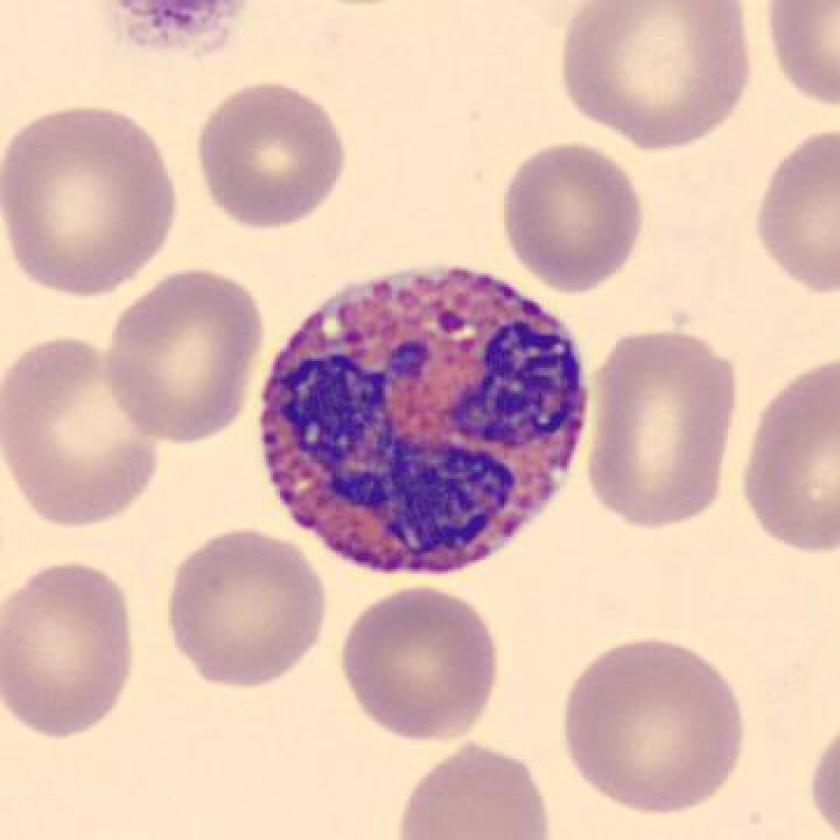eosinophil: (251, 256, 601, 589)
